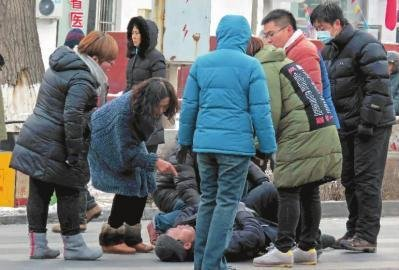fall: (140, 179, 301, 263)
